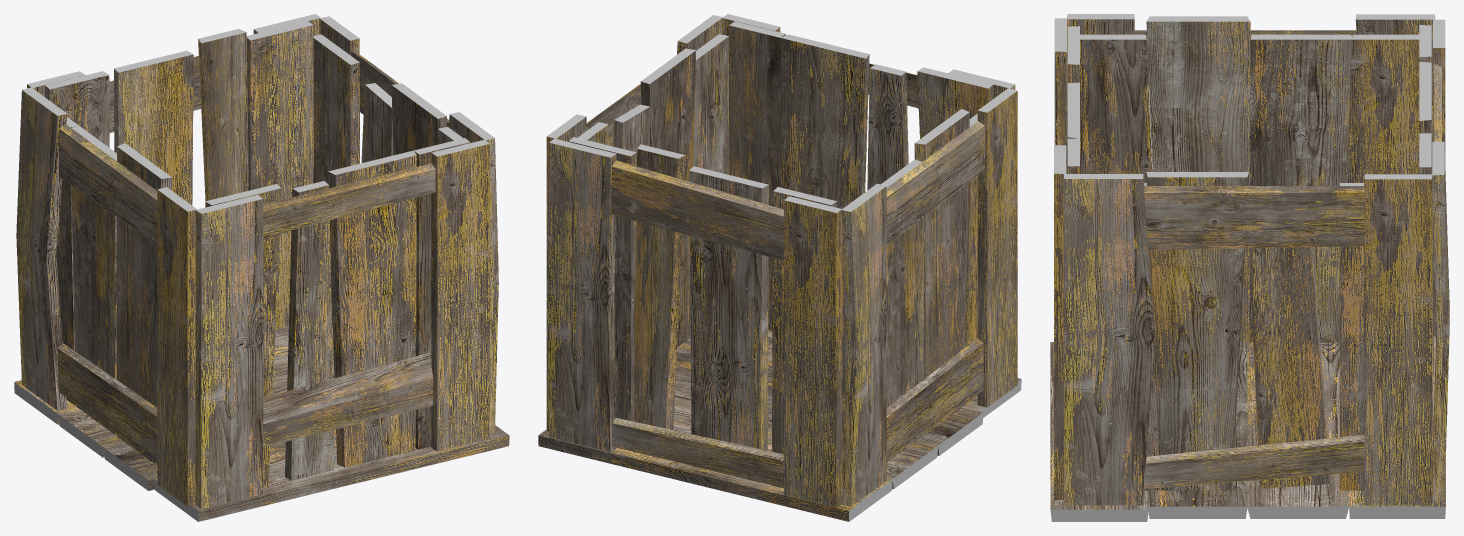
The model's file is Chest3.fbx.
3 views of the same model, side by side, from view 1: azimuth 30°, elevation 25°; view 2: azimuth 150°, elevation 25°; view 3: azimuth 270°, elevation 25° (orthographic). The views are drawn at different scales.
Visible parts, largest first — view 1: polySurface738; view 2: polySurface738; view 3: polySurface738.
Part boxes in pixels (x1,y1,x2,y2): polySurface738: (14,14,509,521); polySurface738: (538,14,1021,521); polySurface738: (1050,14,1449,521).
Bounding box in the file's own units: 1.12 × 1.05 × 1.09.
